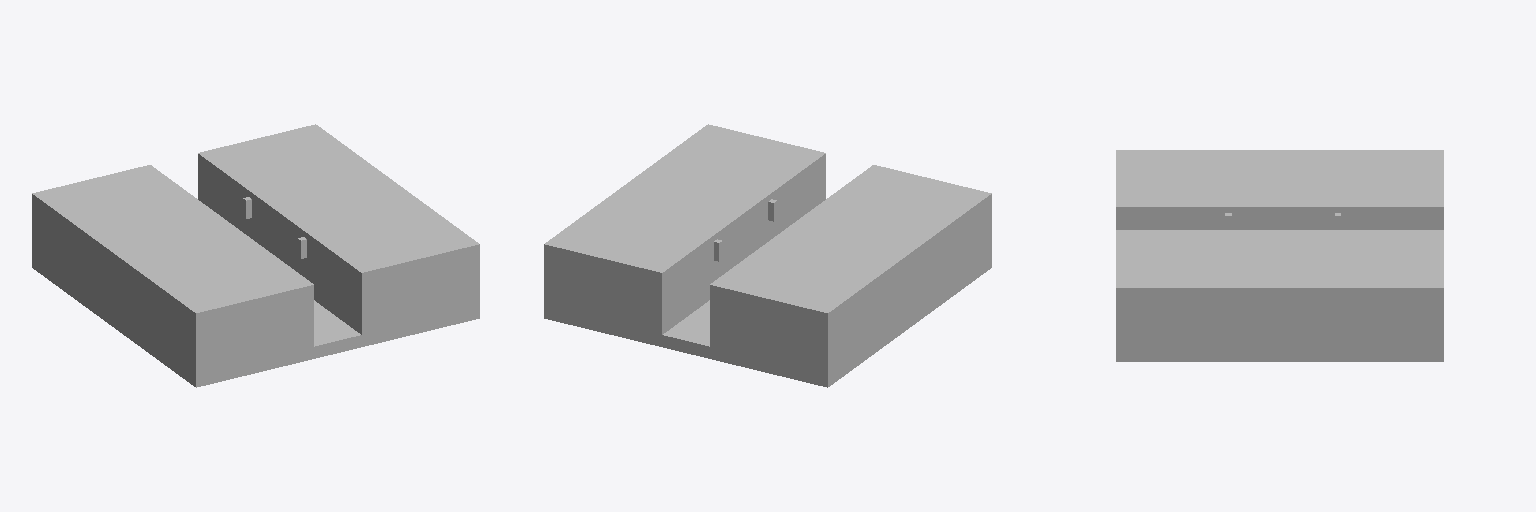
Rendered from One-Way Room-00.obj.
3 views of the same model, side by side, from view 1: azimuth 30°, elevation 25°; view 2: azimuth 150°, elevation 25°; view 3: azimuth 270°, elevation 25° (orthographic).
Bounding box in the file's own units: 48 × 12 × 48.